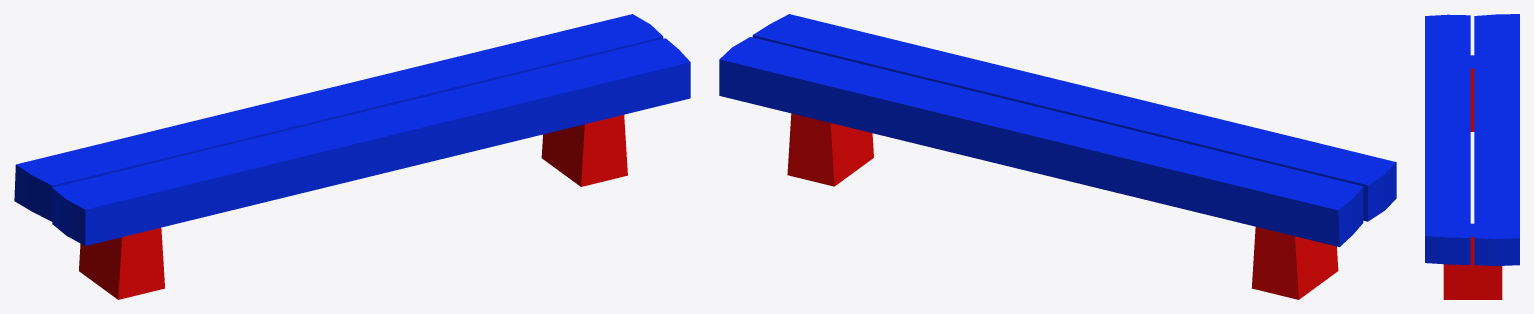
The model's file is Bench.fbx.
3 views of the same model, side by side, from view 1: azimuth 30°, elevation 25°; view 2: azimuth 150°, elevation 25°; view 3: azimuth 270°, elevation 25° (orthographic). The views are drawn at different scales.
Parts seen in each view (by area): view 1: Bench; view 2: Bench; view 3: Bench.
Boxes of the visible parts, left/top/right/bottom form: Bench: left=14, top=14, right=690, bottom=299; Bench: left=719, top=14, right=1396, bottom=299; Bench: left=1425, top=14, right=1519, bottom=299.
Size of the model in its own units: 262 by 44.57 by 46.65.
